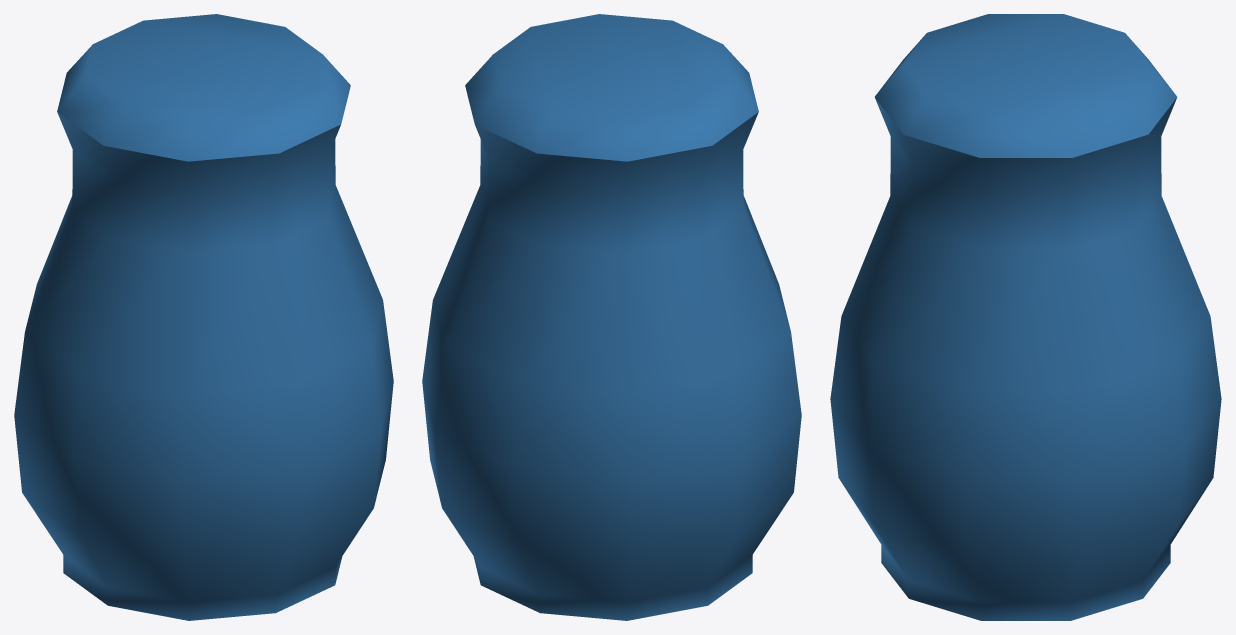
File: salero01.fbx
The picture shows the model from 3 angles, left to right: view 1: azimuth 30°, elevation 25°; view 2: azimuth 150°, elevation 25°; view 3: azimuth 270°, elevation 25°; orthographic projection.
Parts seen in each view (by area): view 1: pCylinder1; view 2: pCylinder1; view 3: pCylinder1.
Boxes of the visible parts, x1,y1,x2,y2 form: pCylinder1: (14,14,393,620); pCylinder1: (422,14,801,620); pCylinder1: (830,14,1221,620).
Bounding box in the file's own units: 0.0931 × 0.1379 × 0.0979.
